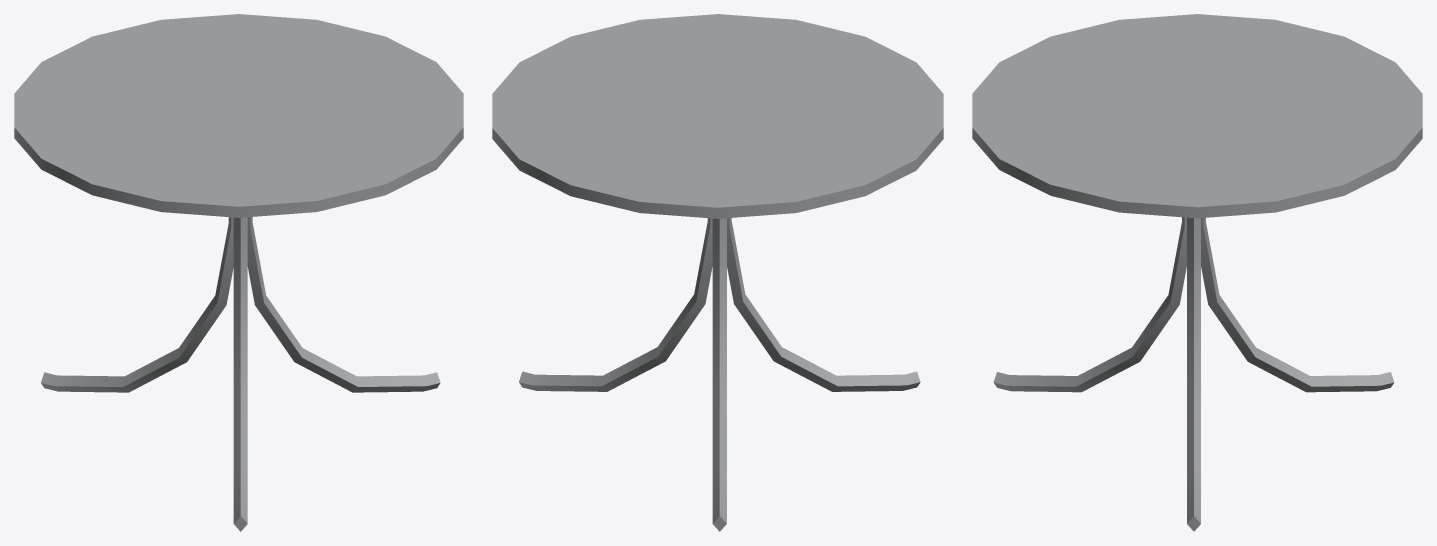
Rendered from SM_table_cafe_01.fbx.
The picture shows the model from 3 angles, left to right: view 1: azimuth 30°, elevation 25°; view 2: azimuth 150°, elevation 25°; view 3: azimuth 270°, elevation 25°; orthographic projection.
Parts seen in each view (by area): view 1: Line010; view 2: Line010; view 3: Line010.
Boxes of the visible parts, left/top/right/bottom form: Line010: left=14, top=14, right=463, bottom=531; Line010: left=492, top=14, right=943, bottom=531; Line010: left=972, top=14, right=1422, bottom=531.
Size of the model in its own units: 38.05 by 37.48 by 29.85.
